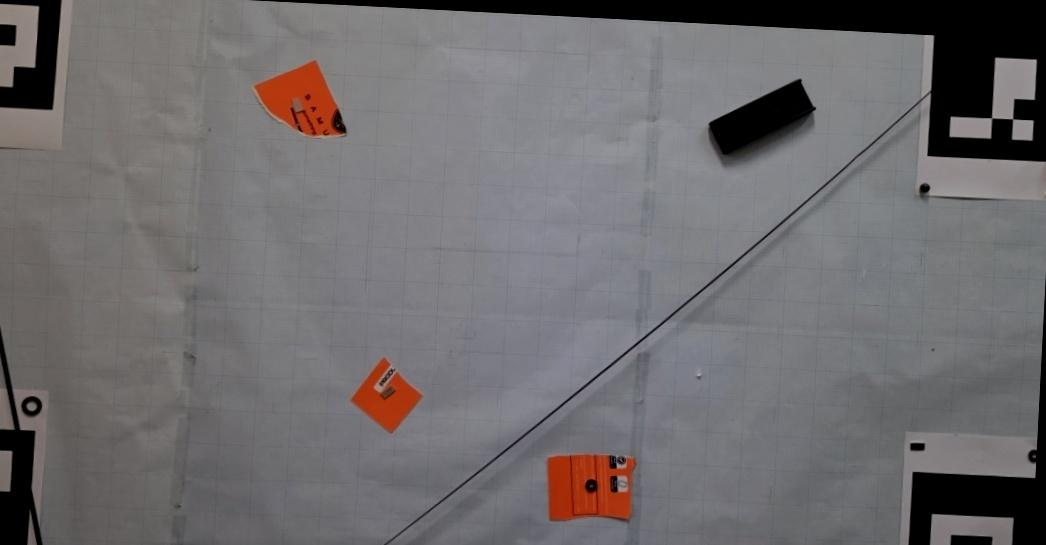obstacle: (707, 80, 817, 160), (252, 61, 347, 140), (546, 456, 636, 522), (350, 356, 421, 434)
